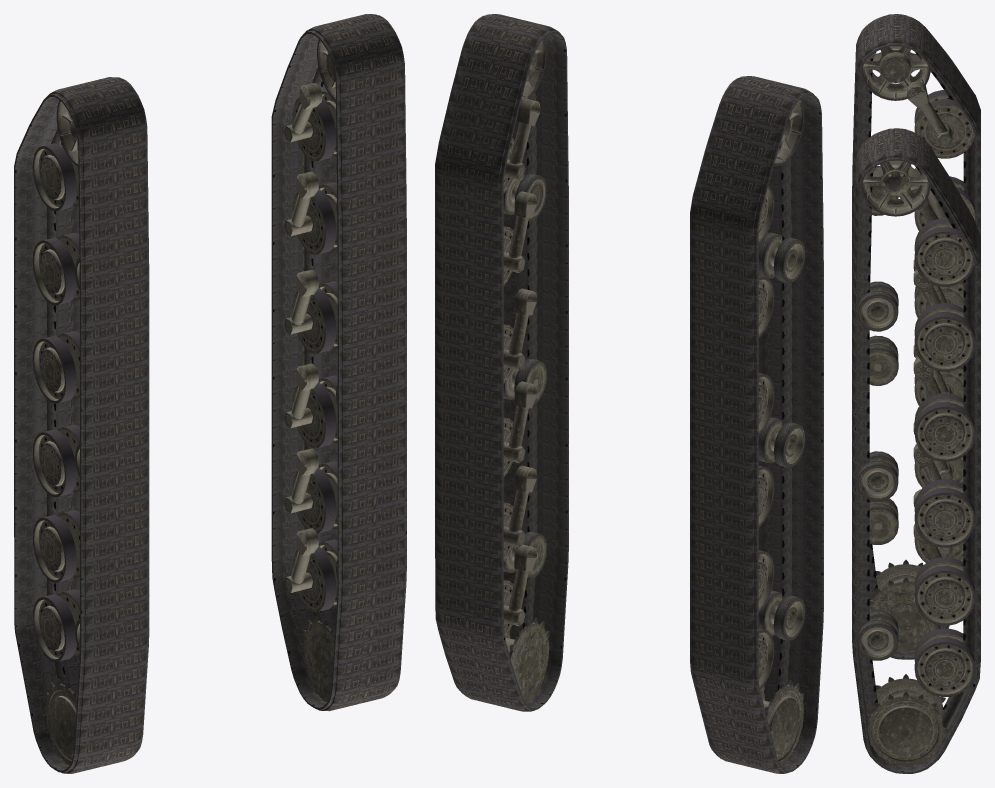
File: Chassis.glb
3 renders of one model, left to right at view 1: azimuth 30°, elevation 25°; view 2: azimuth 150°, elevation 25°; view 3: azimuth 270°, elevation 25°, orthographic. The views are drawn at different scales.
Visible parts, largest first — view 1: set_0_group_0, set_1_group_0, set_3_group_0, set_2_group_0; view 2: set_0_group_0, set_1_group_0, set_3_group_0, set_2_group_0; view 3: set_3_group_0, set_1_group_0, set_2_group_0, set_0_group_0.
Part boxes in pixels (box(x1,y1,x2,y2)): set_0_group_0: box(14, 77, 149, 773); set_1_group_0: box(271, 14, 406, 711); set_3_group_0: box(284, 39, 337, 701); set_2_group_0: box(32, 100, 79, 764); set_0_group_0: box(690, 76, 823, 773); set_1_group_0: box(435, 14, 568, 711); set_3_group_0: box(503, 38, 549, 702); set_2_group_0: box(758, 99, 805, 764); set_3_group_0: box(857, 160, 975, 766); set_1_group_0: box(852, 128, 980, 773); set_2_group_0: box(861, 46, 975, 651); set_0_group_0: box(852, 14, 980, 659).
Size of the model in its own units: 3.32 by 6.64 by 1.25.
Materials: 4 (4 with a texture image).
